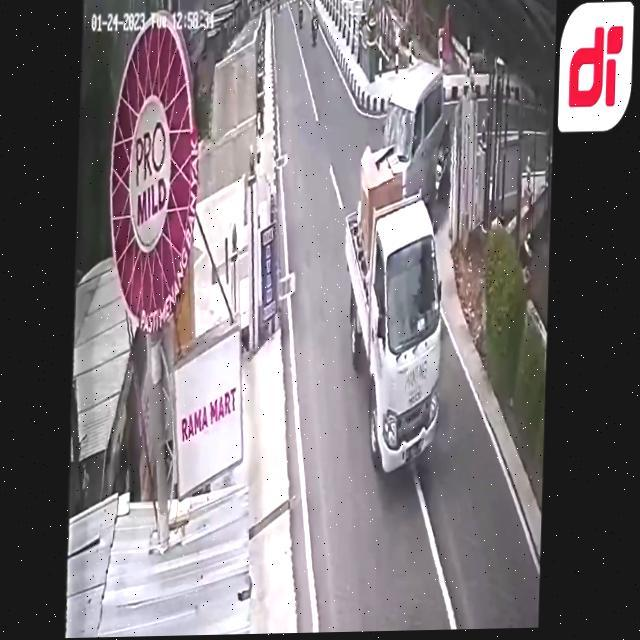multiple_accident: (336, 59, 470, 476)
